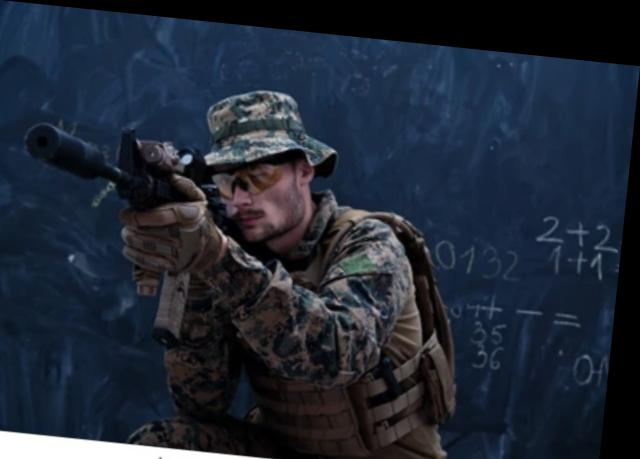other: (109, 69, 491, 458)
